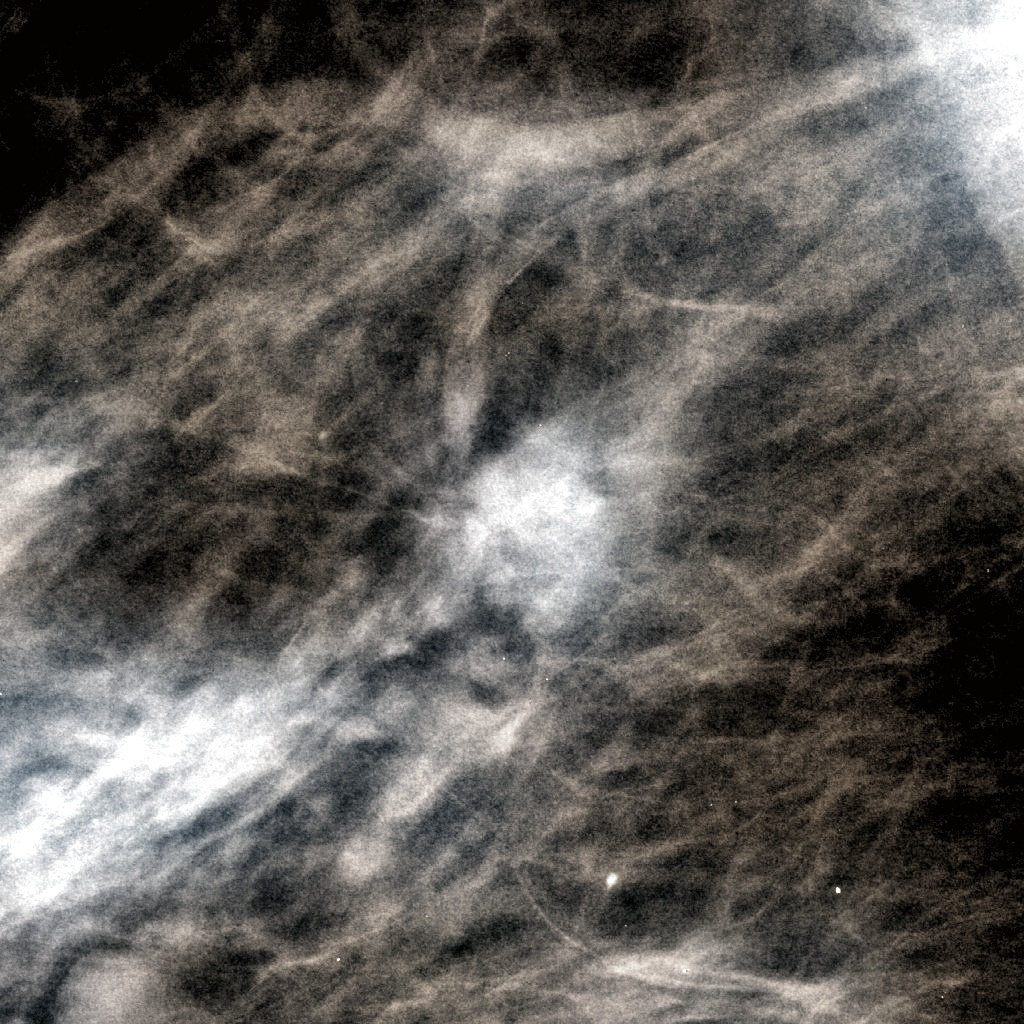tumor: (404, 403, 620, 621)
